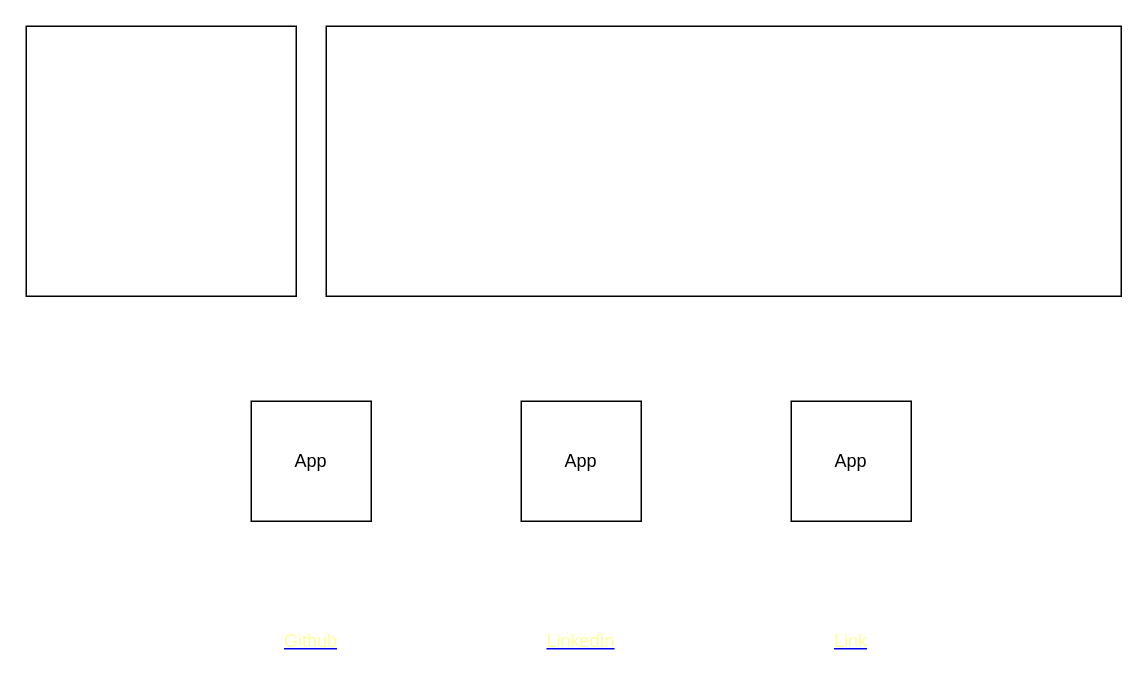
Some shapes in this 1148 by 698 pixel diagram are drawn without their labels. Here are the shapes that lost their labels. From the top down, the centre of each, then its label:
At [160,160]: "Pic".
At [723,160]: "Name Degree Occupations".
